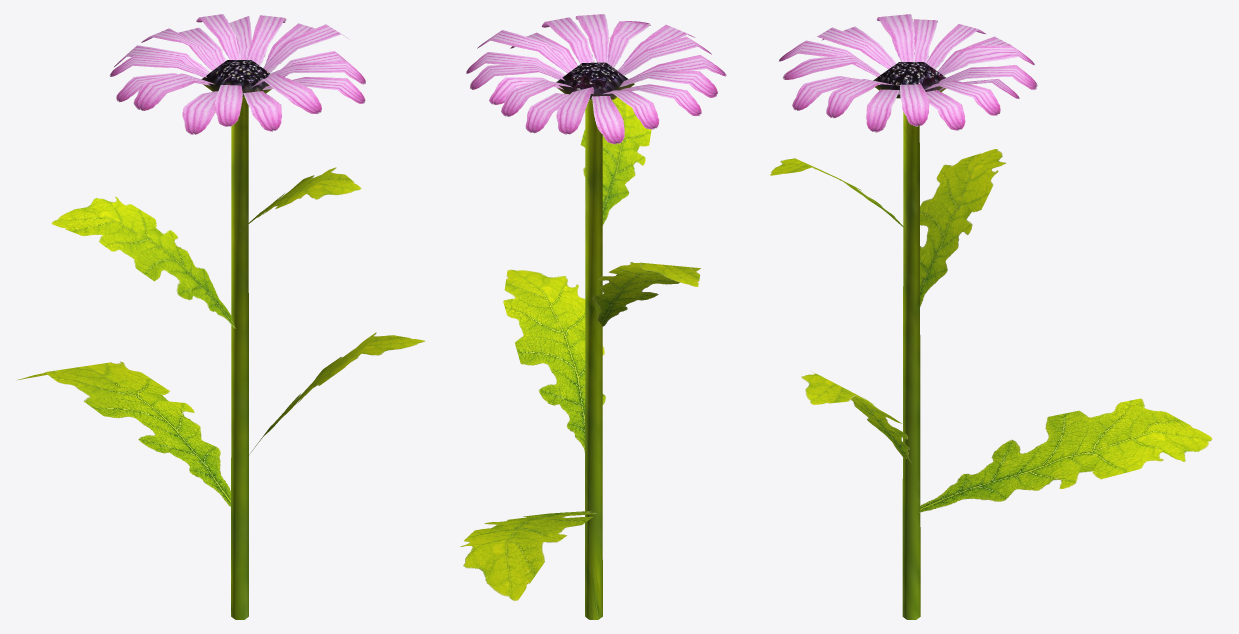
File: Garden.obj
The picture shows the model from 3 angles, left to right: view 1: azimuth 30°, elevation 25°; view 2: azimuth 150°, elevation 25°; view 3: azimuth 270°, elevation 25°; orthographic projection.
Visible parts, largest first — view 1: leafs, petals, trunk_center_Circle.001; view 2: leafs, petals, trunk_center_Circle.001; view 3: leafs, petals, trunk_center_Circle.001.
Boxes of the visible parts, <box> form: leafs: <box>17,167,425,506</box>; petals: <box>109,14,365,134</box>; trunk_center_Circle.001: <box>201,60,271,619</box>; leafs: <box>460,97,700,600</box>; petals: <box>466,14,726,144</box>; trunk_center_Circle.001: <box>556,62,634,619</box>; leafs: <box>770,149,1212,512</box>; petals: <box>779,14,1037,132</box>; trunk_center_Circle.001: <box>873,62,946,619</box>.
Bounding box in the file's own units: 0.2132 × 0.4027 × 0.3036.
1 material, 1 textured.
